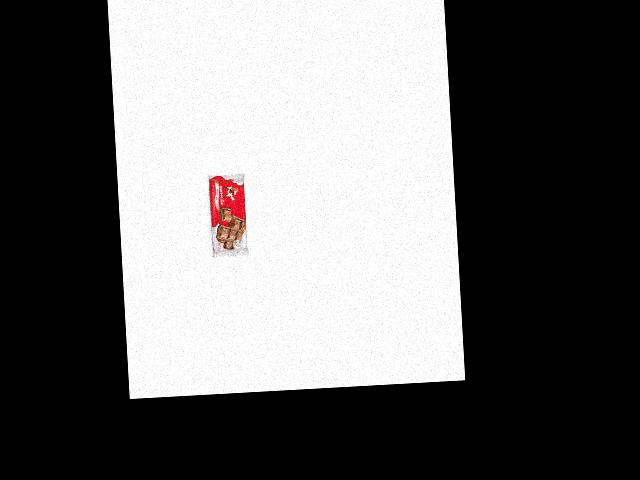chocolate: (207, 172, 249, 260)
